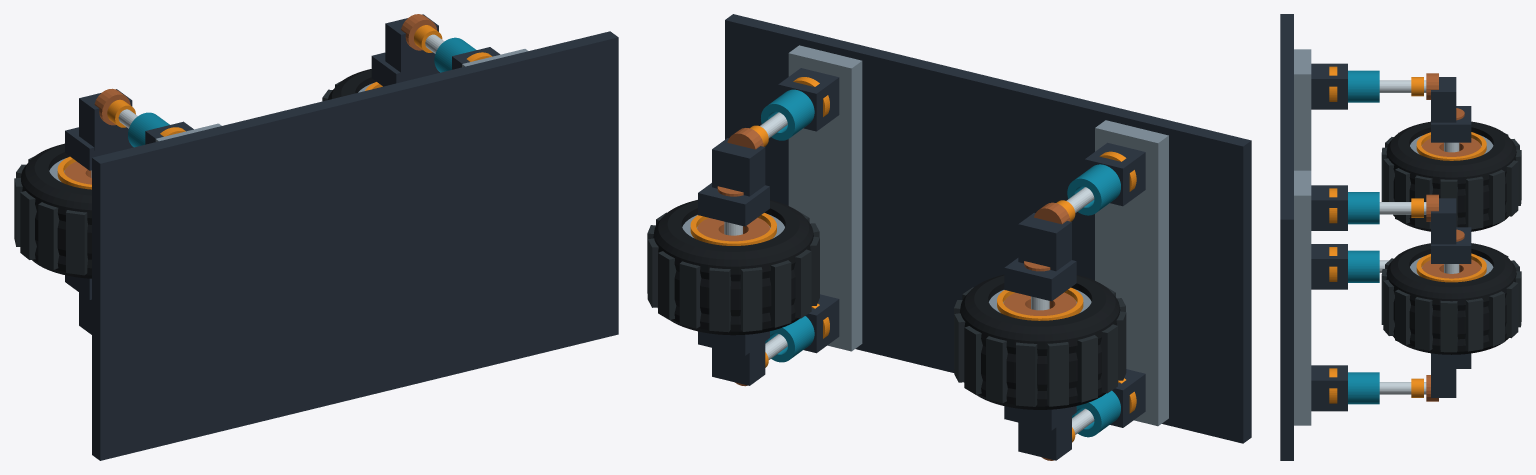
Rendered from M02-007_support_roller_pair.obj.
3 views of the same model, side by side, from view 1: azimuth 30°, elevation 25°; view 2: azimuth 150°, elevation 25°; view 3: azimuth 270°, elevation 25° (orthographic). The views are drawn at different scales.
Parts seen in each view (by area): view 1: 00_Underside_Mount_Plate, L_Roller_Rubber, R_POS_Lower_Link, L_POS_Lower_Link, L_Raised_Tread_06, L_Raised_Tread_07, L_POS_Axle_Ear, L_Raised_Tread_08, R_POS_Axle_Ear, L_POS_Damper_Housing, R_POS_Damper_Housing, R_Roller_Rubber; view 2: 00_Underside_Mount_Plate, R_Upper_Crossmember, L_Upper_Crossmember, R_Roller_Rubber, L_Roller_Rubber, R_POS_Lower_Link, L_POS_Lower_Link, L_POS_Axle_Ear, R_POS_Axle_Ear, L_POS_Upper_Clevis, R_POS_Upper_Clevis, R_NEG_Lower_Link (+29 smaller); view 3: 00_Underside_Mount_Plate, R_Roller_Rubber, L_Roller_Rubber, R_Upper_Crossmember, L_Upper_Crossmember, R_NEG_Upper_Clevis, L_POS_Upper_Clevis, R_POS_Upper_Clevis, L_NEG_Upper_Clevis, R_POS_Lower_Link, L_POS_Lower_Link, L_NEG_Damper_Housing (+33 smaller).
Boxes of the visible parts, bbox=[...] form: 00_Underside_Mount_Plate: bbox=[92, 31, 618, 460]; L_Roller_Rubber: bbox=[21, 143, 91, 278]; R_POS_Lower_Link: bbox=[385, 14, 438, 75]; L_POS_Lower_Link: bbox=[79, 89, 132, 150]; L_Raised_Tread_06: bbox=[66, 210, 87, 275]; L_Raised_Tread_07: bbox=[38, 202, 59, 269]; L_POS_Axle_Ear: bbox=[65, 127, 133, 170]; L_Raised_Tread_08: bbox=[20, 191, 36, 259]; R_POS_Axle_Ear: bbox=[371, 52, 439, 86]; L_POS_Damper_Housing: bbox=[128, 112, 169, 147]; R_POS_Damper_Housing: bbox=[434, 37, 476, 72]; R_Roller_Rubber: bbox=[328, 69, 376, 99]; 00_Underside_Mount_Plate: bbox=[725, 14, 1251, 443]; R_Upper_Crossmember: bbox=[788, 45, 862, 351]; L_Upper_Crossmember: bbox=[1095, 120, 1168, 426]; R_Roller_Rubber: bbox=[653, 200, 813, 335]; L_Roller_Rubber: bbox=[960, 274, 1120, 409]; R_POS_Lower_Link: bbox=[712, 138, 765, 196]; L_POS_Lower_Link: bbox=[1018, 213, 1071, 271]; L_POS_Axle_Ear: bbox=[1004, 258, 1076, 301]; R_POS_Axle_Ear: bbox=[698, 183, 769, 226]; L_POS_Upper_Clevis: bbox=[1084, 142, 1145, 206]; R_POS_Upper_Clevis: bbox=[778, 68, 839, 131]; R_NEG_Lower_Link: bbox=[712, 341, 765, 385]; 00_Underside_Mount_Plate: bbox=[1280, 14, 1293, 460]; R_Roller_Rubber: bbox=[1386, 243, 1516, 354]; L_Roller_Rubber: bbox=[1386, 121, 1516, 231]; R_Upper_Crossmember: bbox=[1294, 170, 1311, 425]; L_Upper_Crossmember: bbox=[1294, 49, 1311, 170]; R_NEG_Upper_Clevis: bbox=[1311, 365, 1347, 411]; L_POS_Upper_Clevis: bbox=[1311, 63, 1347, 109]; R_POS_Upper_Clevis: bbox=[1311, 185, 1347, 230]; L_NEG_Upper_Clevis: bbox=[1311, 244, 1347, 289]; R_POS_Lower_Link: bbox=[1431, 198, 1456, 244]; L_POS_Lower_Link: bbox=[1431, 77, 1456, 122]; L_NEG_Damper_Housing: bbox=[1348, 250, 1379, 282].
Size of the model in its own units: 1.15 by 0.63 by 0.5705.
